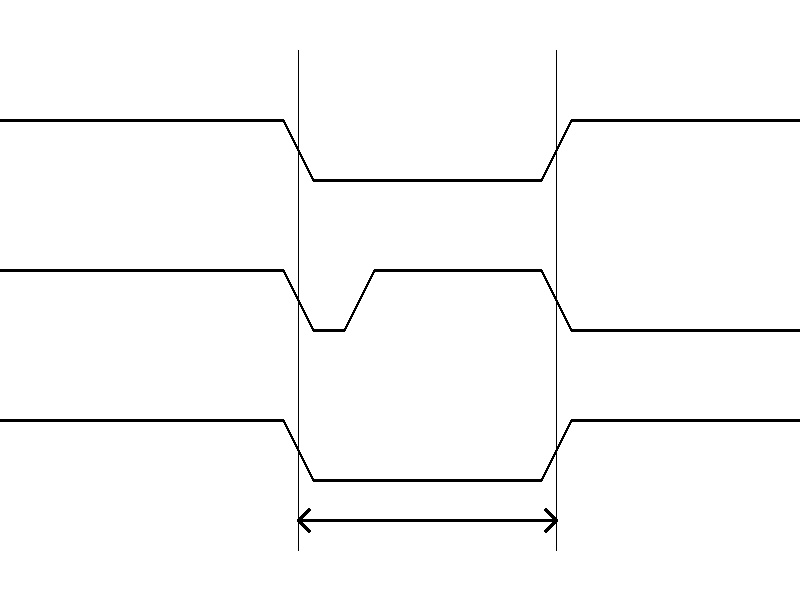double_arrow: (298, 505, 556, 535)
